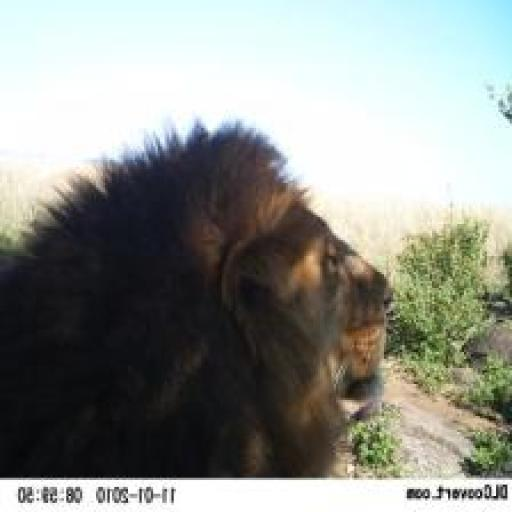lion: (2, 110, 408, 472)
